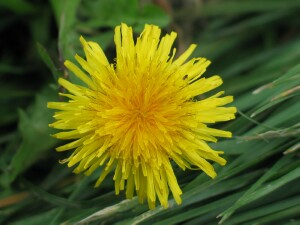dandelion: (63, 48, 227, 189)
